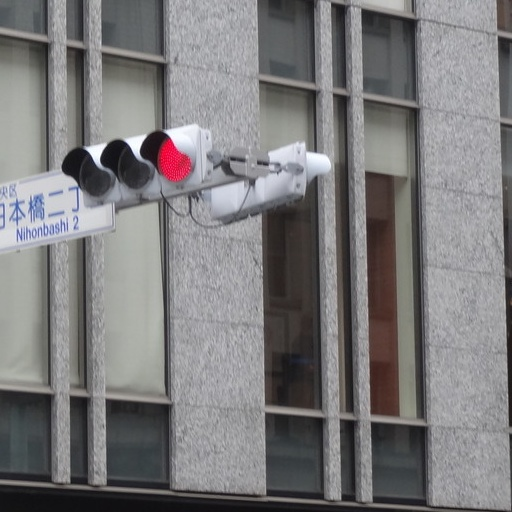Traffic_Signal_Red: (60, 117, 214, 202)
